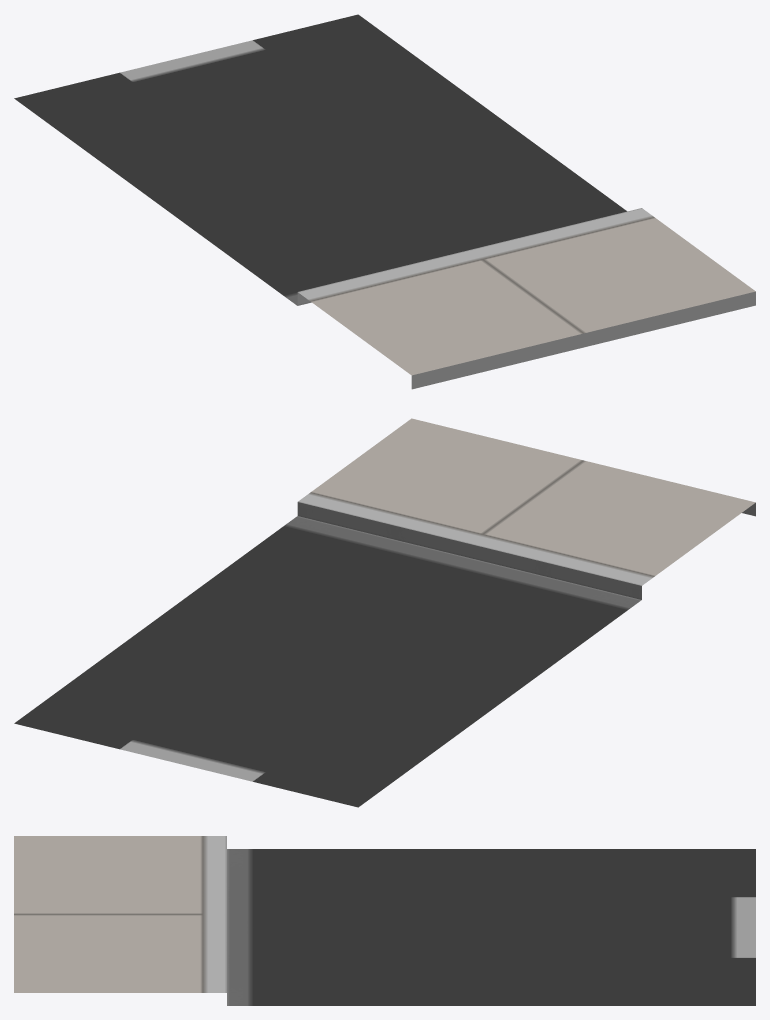
The model's file is SM_Env_Road_straight_mesh_01.gltf.
3 views of the same model, one above another, from view 1: azimuth 30°, elevation 25°; view 2: azimuth 150°, elevation 25°; view 3: azimuth 270°, elevation 25° (orthographic). The views are drawn at different scales.
Parts seen in each view (by area): view 1: SM_Env_Road_straight_mesh_01; view 2: SM_Env_Road_straight_mesh_01; view 3: SM_Env_Road_straight_mesh_01.
Boxes of the visible parts, x1,y1,x2,y2 form: SM_Env_Road_straight_mesh_01: [14, 14, 755, 389]; SM_Env_Road_straight_mesh_01: [14, 418, 755, 807]; SM_Env_Road_straight_mesh_01: [14, 836, 755, 1005].
Bounding box in the file's own units: 5 × 0.1948 × 10.
1 material, 1 textured.
